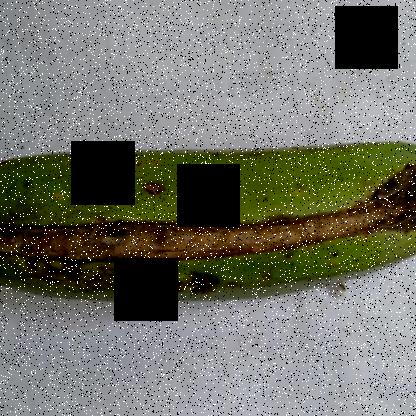rotten: (1, 151, 415, 294)
